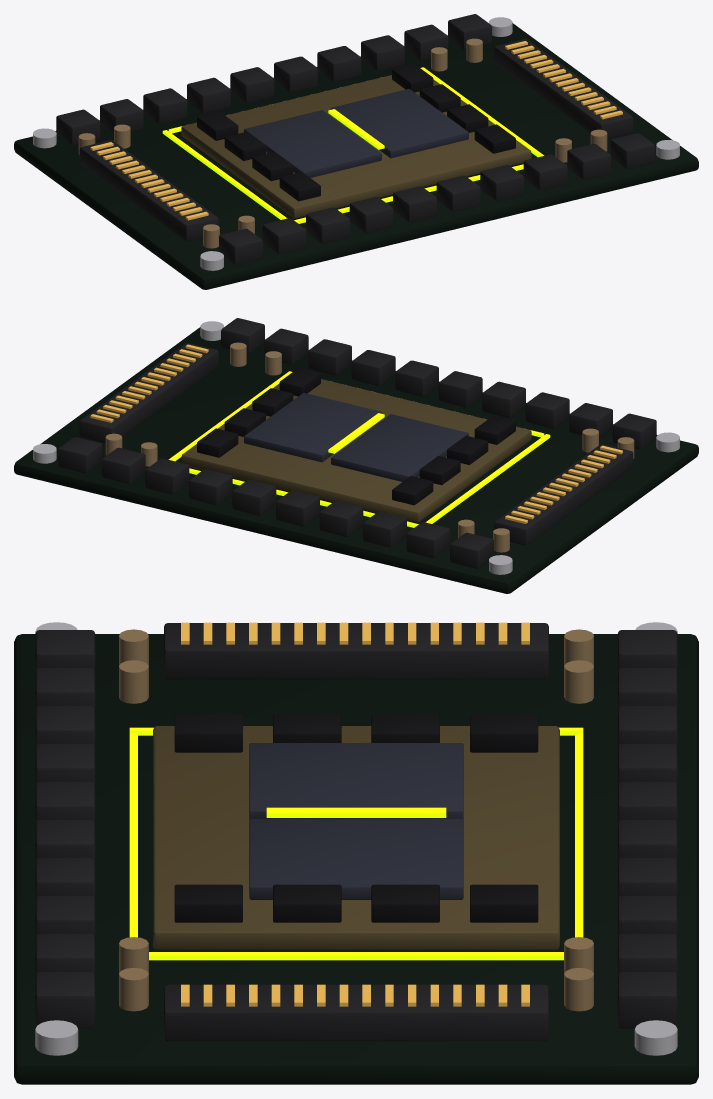
Rendered from dc_module.glb.
The picture shows the model from 3 angles, top to bottom: view 1: azimuth 30°, elevation 25°; view 2: azimuth 150°, elevation 25°; view 3: azimuth 270°, elevation 25°; orthographic projection. The views are drawn at different scales.
Visible parts, largest first — view 1: dc_module; view 2: dc_module; view 3: dc_module.
Boxes of the visible parts, <box> form: dc_module: <box>14,14,698,289</box>; dc_module: <box>14,318,698,593</box>; dc_module: <box>14,622,698,1084</box>.
Size of the model in its own units: 2.4 by 0.16 by 1.6.
